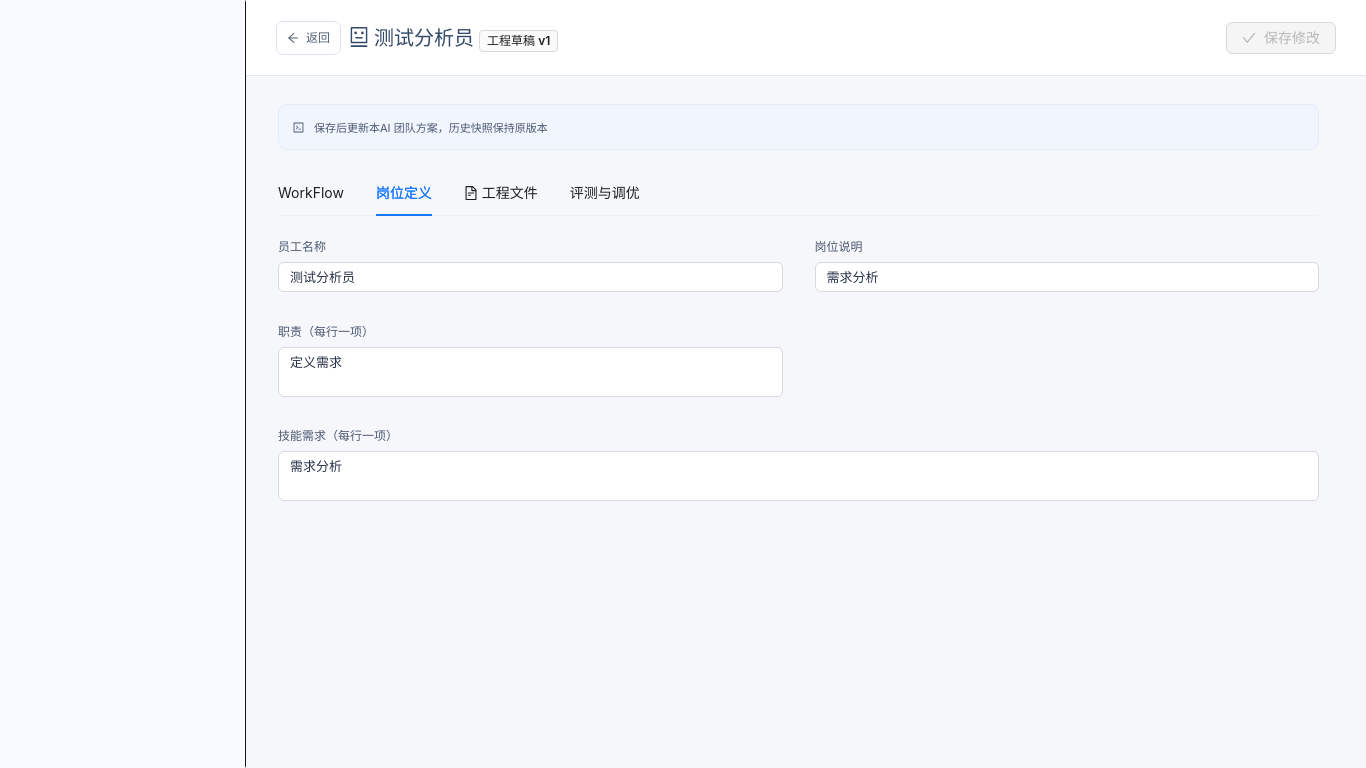
Test case: 员工编辑器 › 非法文件名在新增时立即阻止
This screenshot has width=1366, height=768.
Click the tab "工程文件" at (501, 193), box top-left (464, 182), bottom-right (538, 204)
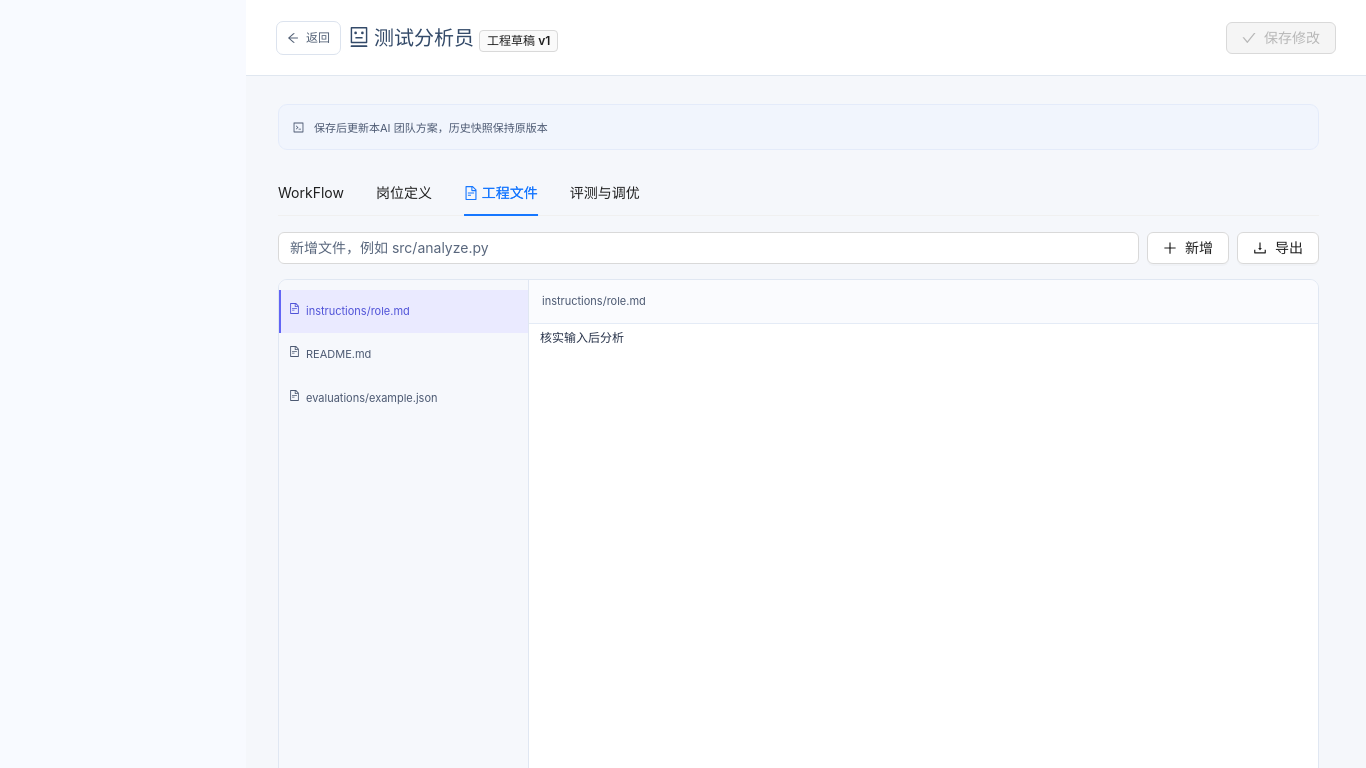
Type "../outside.py" into the field with placeholder "新增文件，例如 src/analyze.py" at (708, 248), box top-left (278, 232), bottom-right (1139, 264)
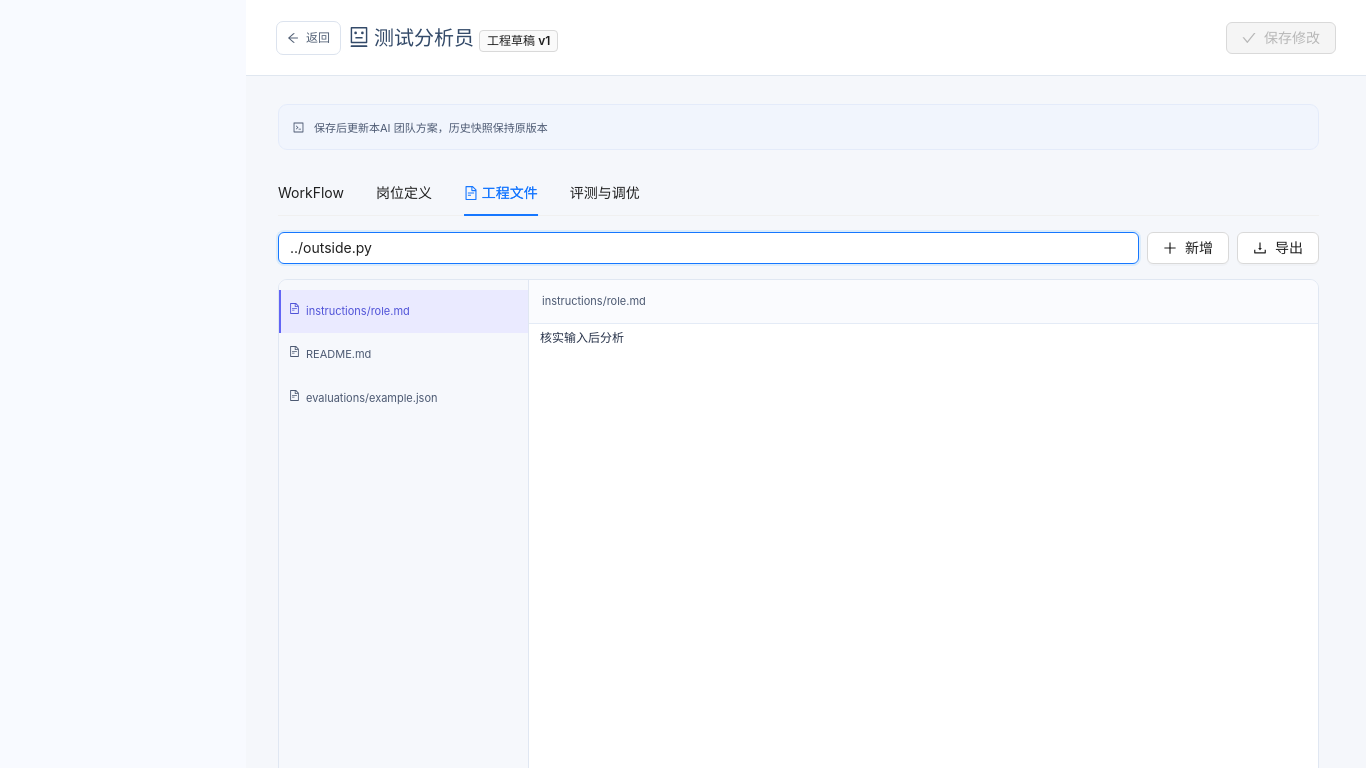
Click the button "新增" at (1188, 248), box top-left (1147, 232), bottom-right (1229, 264)
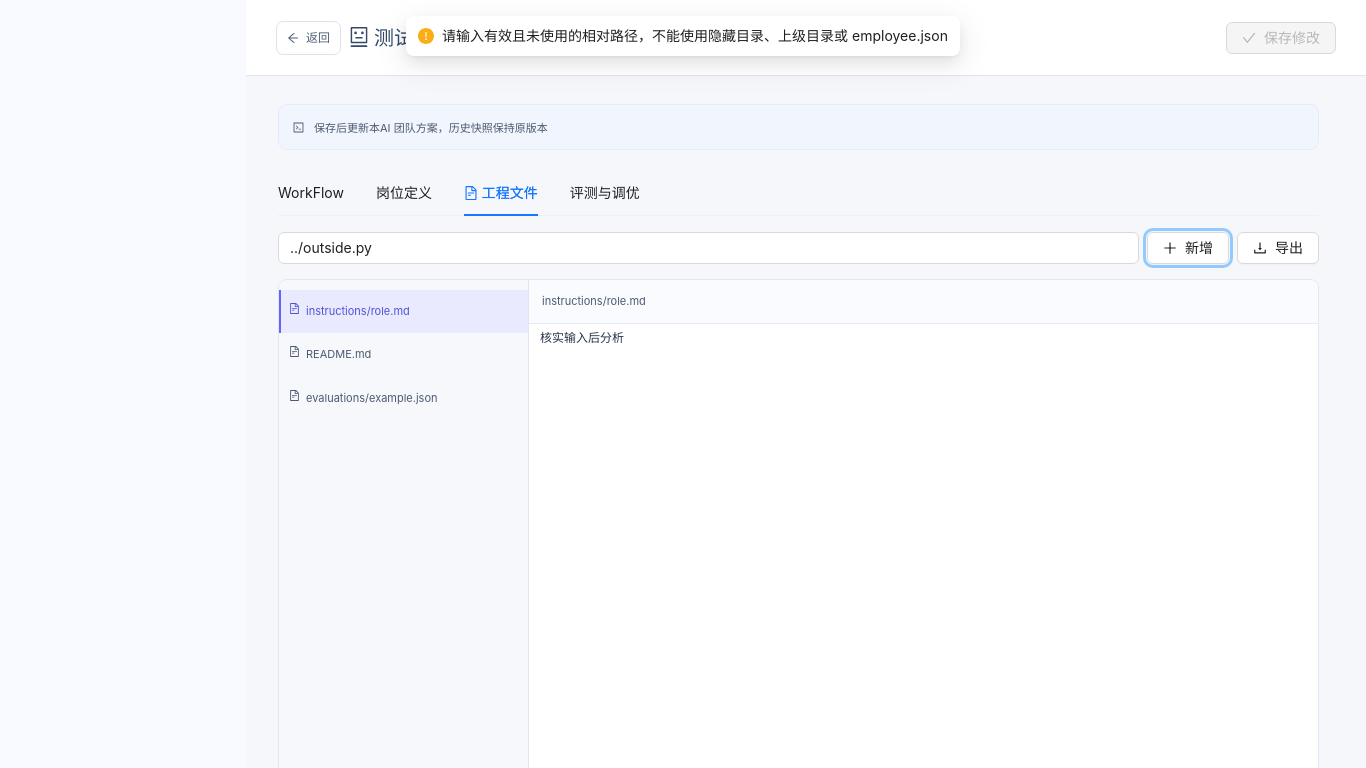
Now the text "请输入有效且未使用的相对路径，不能使用隐藏目录、上级目录或 employee.json" is shown, box top-left (442, 25), bottom-right (948, 47)
